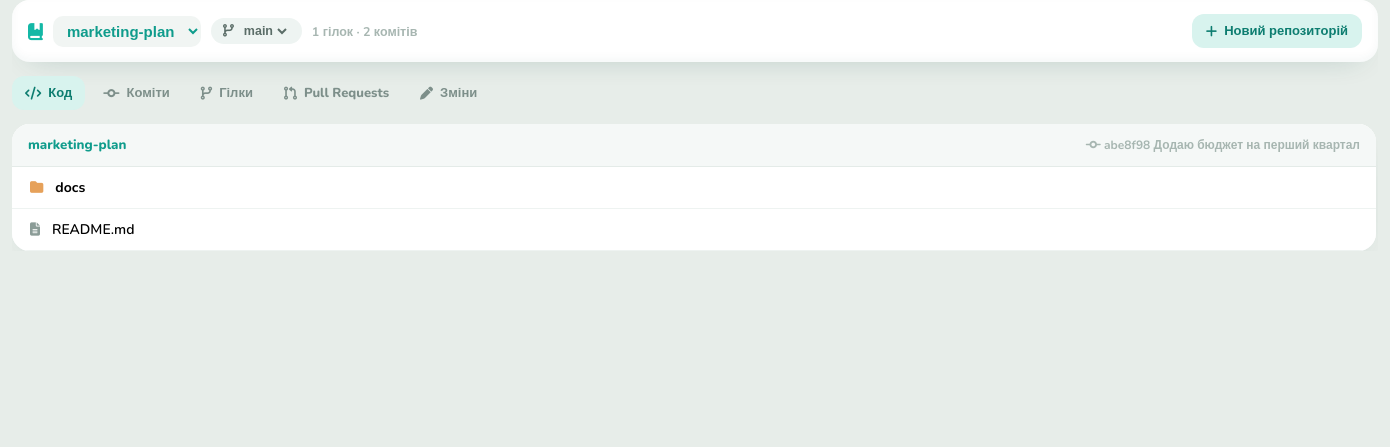
Scenario: Двобічна синхронізація терміналу і GitHub › коміт у терміналі зʼявляється у списку комітів GitHub
Click the button "Коміти" at {"x": 136, "y": 93}, box [90,76,183,110]
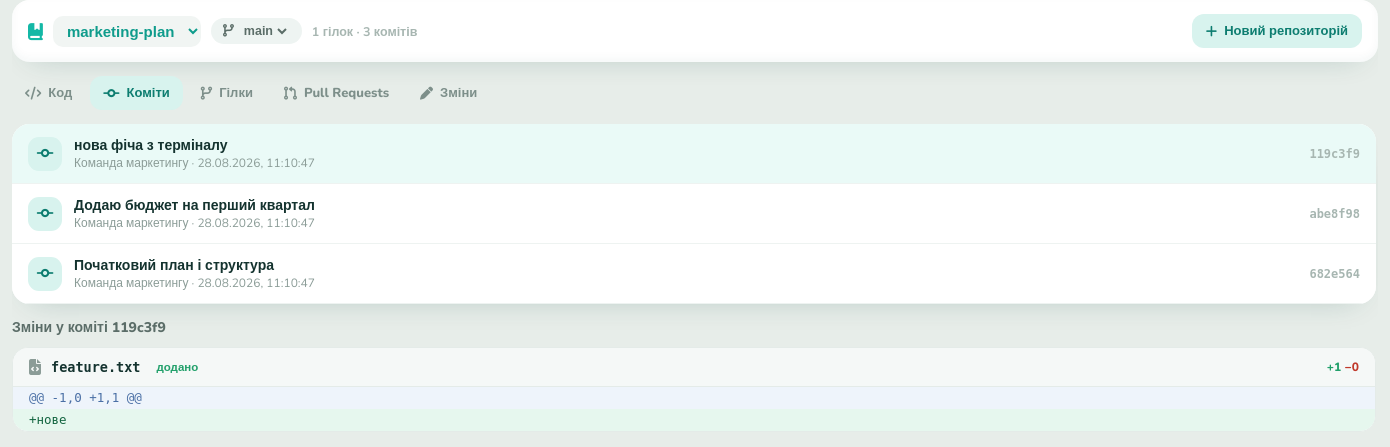
Check: the text "нова фіча з терміналу" is shown, box [74,136,228,155]
